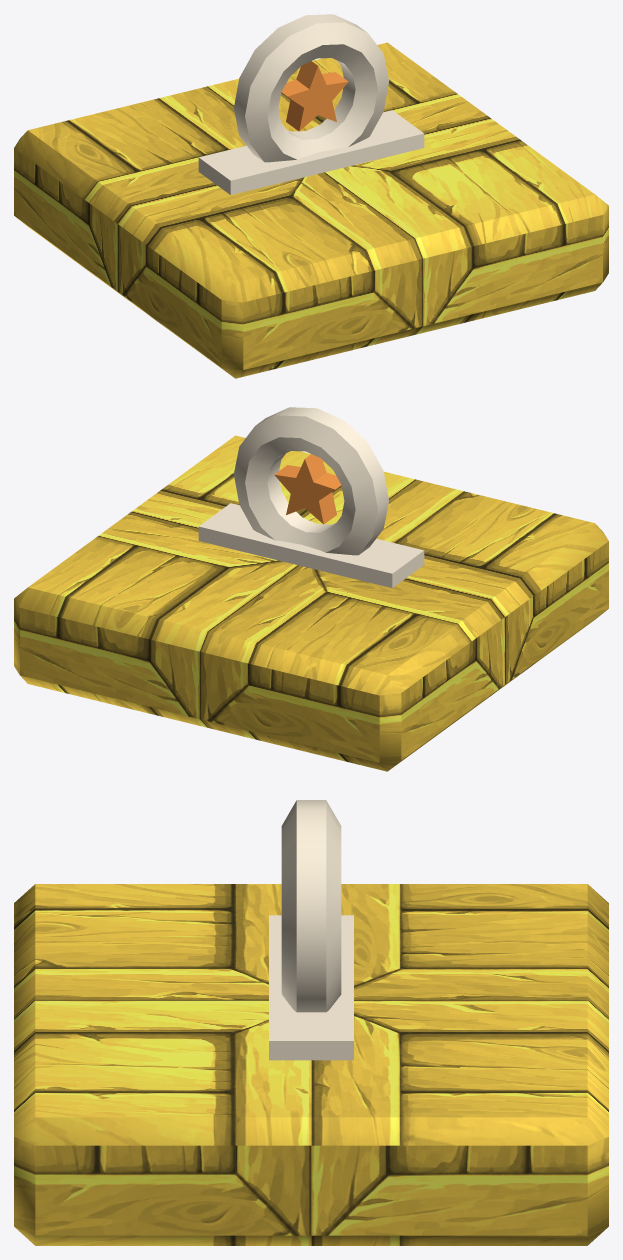
Rendered from tile_7.glb.
3 views of the same model, one above another, from view 1: azimuth 30°, elevation 25°; view 2: azimuth 150°, elevation 25°; view 3: azimuth 270°, elevation 25° (orthographic). The views are drawn at different scales.
Visible parts, largest first — view 1: tile_7; view 2: tile_7; view 3: tile_7.
Boxes of the visible parts, left/top/right/bottom form: tile_7: left=14, top=14, right=608, bottom=378; tile_7: left=14, top=407, right=608, bottom=771; tile_7: left=14, top=800, right=608, bottom=1245.
Size of the model in its own units: 0.84 by 0.4964 by 0.84.
3 materials, 1 textured.
